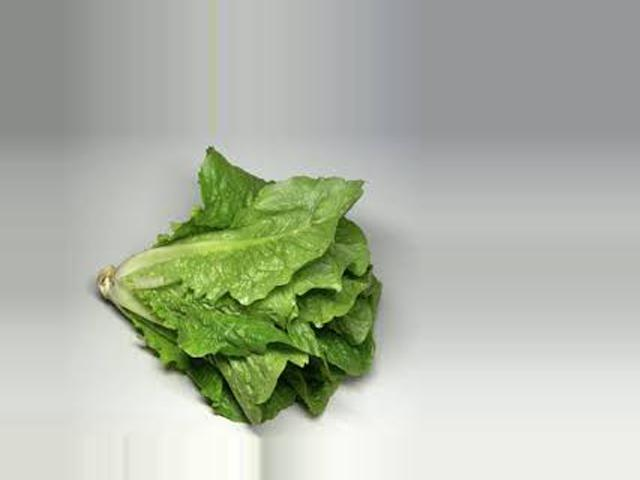lettuce: (86, 148, 382, 425)
